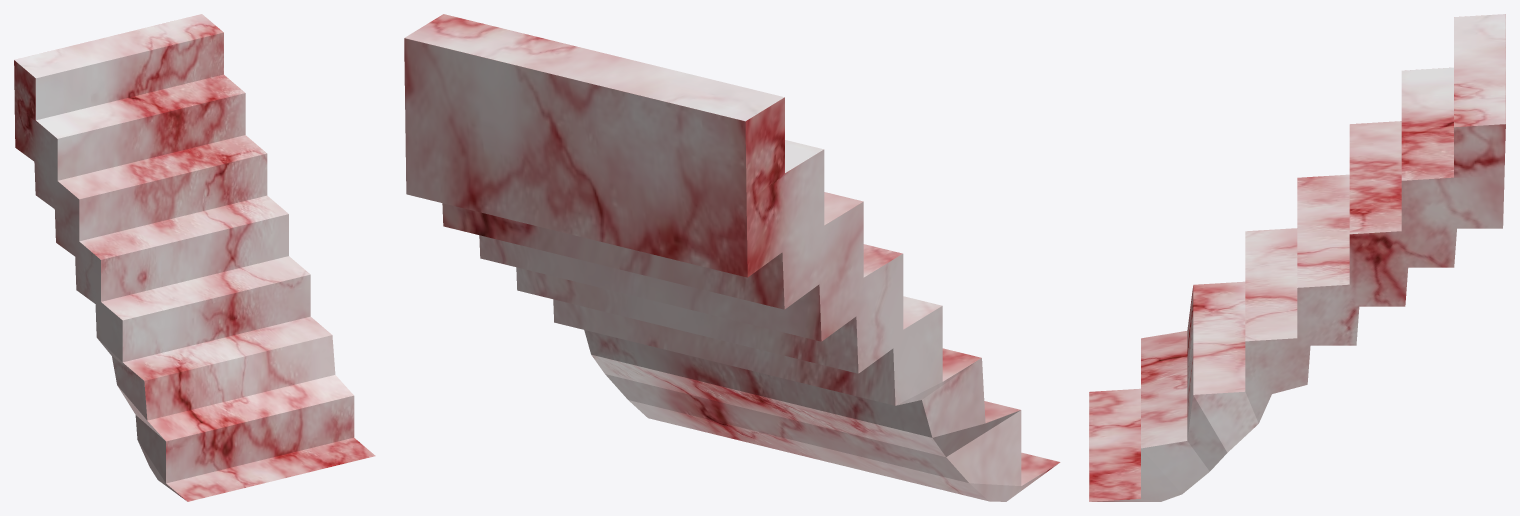
Rendered from stepenice.glb.
3 renders of one model, left to right at view 1: azimuth 30°, elevation 25°; view 2: azimuth 150°, elevation 25°; view 3: azimuth 270°, elevation 25°, orthographic. The views are drawn at different scales.
Parts seen in each view (by area): view 1: Cube; view 2: Cube; view 3: Cube.
Part boxes in pixels (x1,y1,x2,y2): Cube: (14, 14, 375, 501); Cube: (404, 14, 1060, 501); Cube: (1089, 14, 1505, 501).
Size of the model in its own units: 1.03 by 1.6 by 1.6.
1 material, 1 textured.
